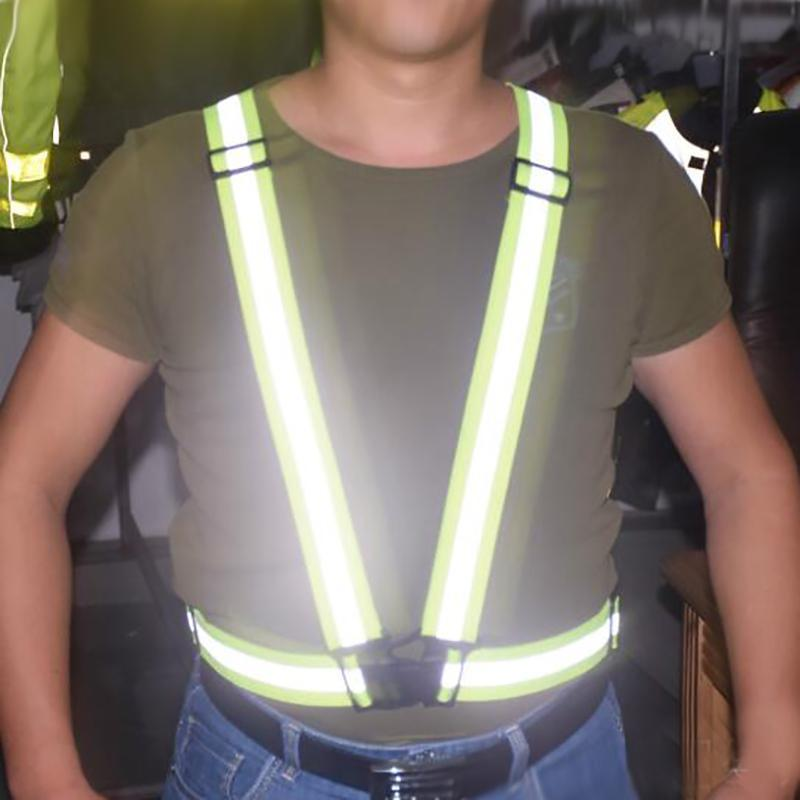Vest: (186, 82, 623, 711)
